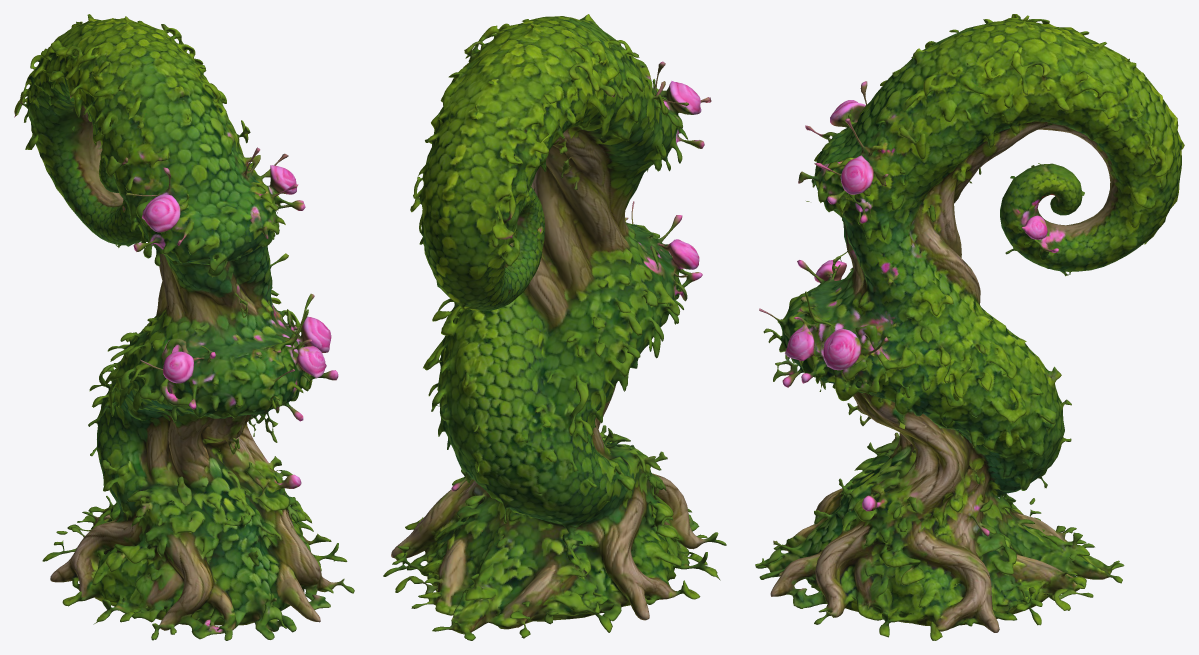
3 views of the same model, side by side, from view 1: azimuth 30°, elevation 25°; view 2: azimuth 150°, elevation 25°; view 3: azimuth 270°, elevation 25° (orthographic). The views are drawn at different scales.
Visible parts, largest first — view 1: tripo_node_9ce44618-b837-4310-a8ff-888bc439e337; view 2: tripo_node_9ce44618-b837-4310-a8ff-888bc439e337; view 3: tripo_node_9ce44618-b837-4310-a8ff-888bc439e337.
Part boxes in pixels (<box>): tripo_node_9ce44618-b837-4310-a8ff-888bc439e337: <box>14,14,354,640</box>; tripo_node_9ce44618-b837-4310-a8ff-888bc439e337: <box>383,14,726,640</box>; tripo_node_9ce44618-b837-4310-a8ff-888bc439e337: <box>755,14,1184,640</box>.
Bounding box in the file's own units: 0.5066 × 0.9664 × 0.685.
1 material, 1 textured.
